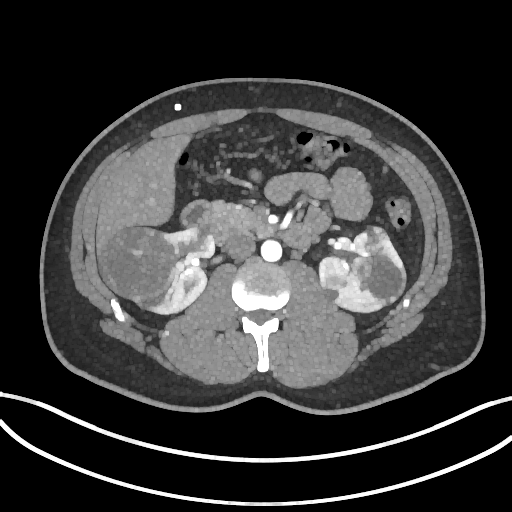Lesion: (98, 225, 181, 304)
